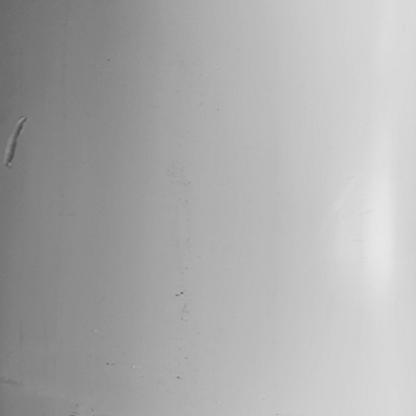sunshang: (1, 116, 27, 169)
